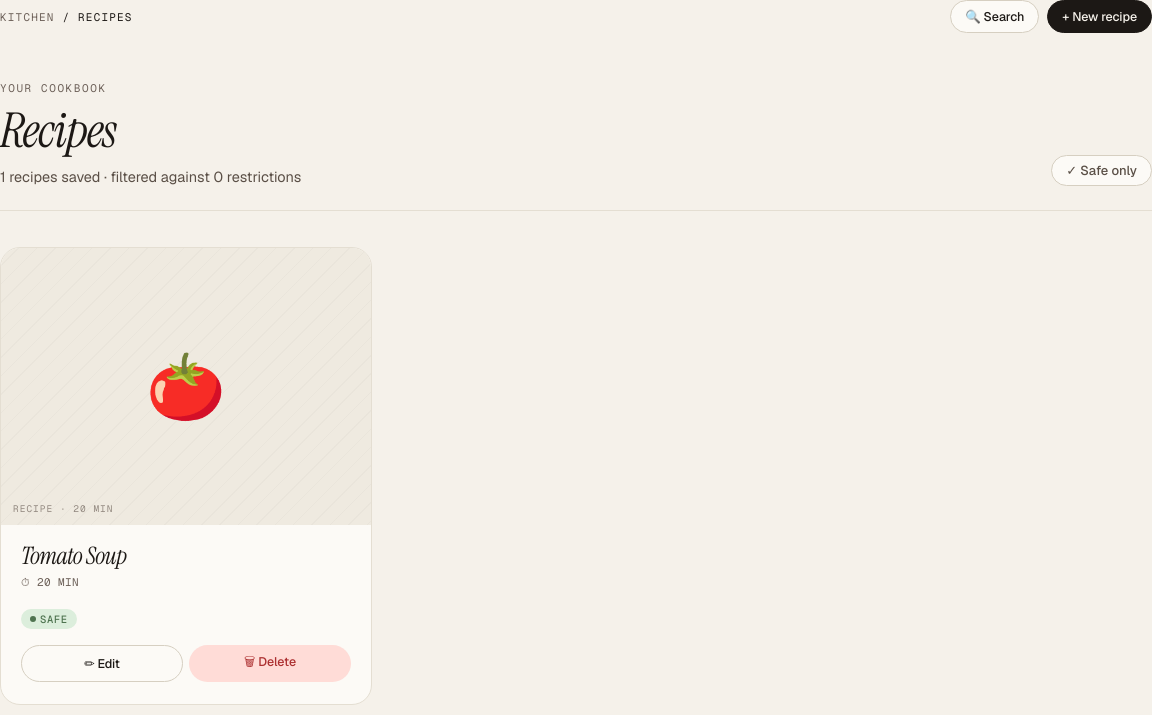
Test: RecipesScreen – delete from detail view confirmation › navigates back to the recipe grid after confirming delete from detail view
This screenshot has width=1152, height=715.
Click the text "Tomato Soup".
click(74, 556)  # box 21,540 -> 126,572
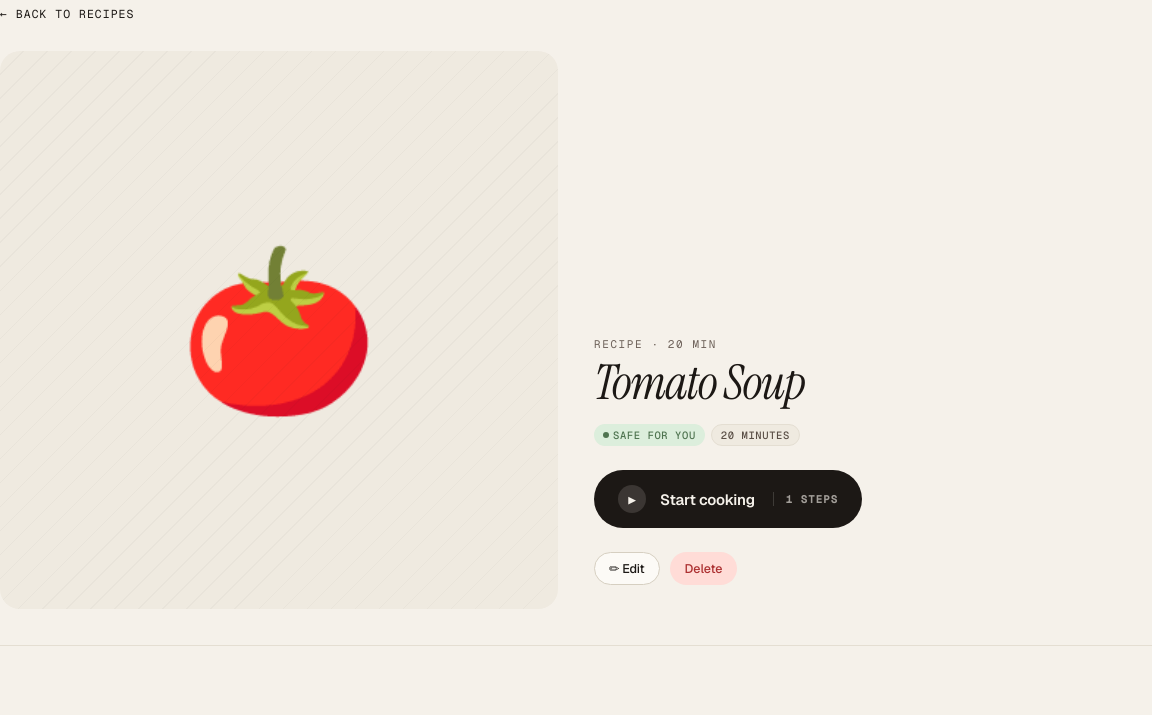
Click the button "Delete".
click(703, 568)  # box 670,552 -> 737,585
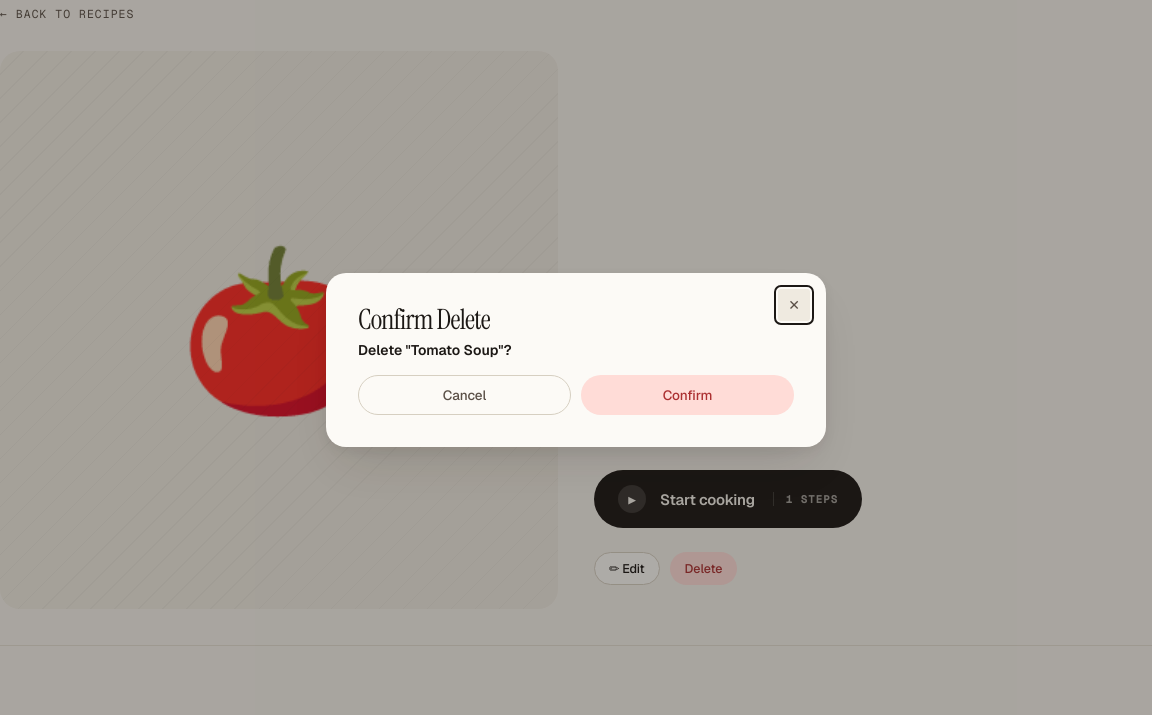
Click the button "Confirm".
click(688, 395)  # box 581,375 -> 794,415
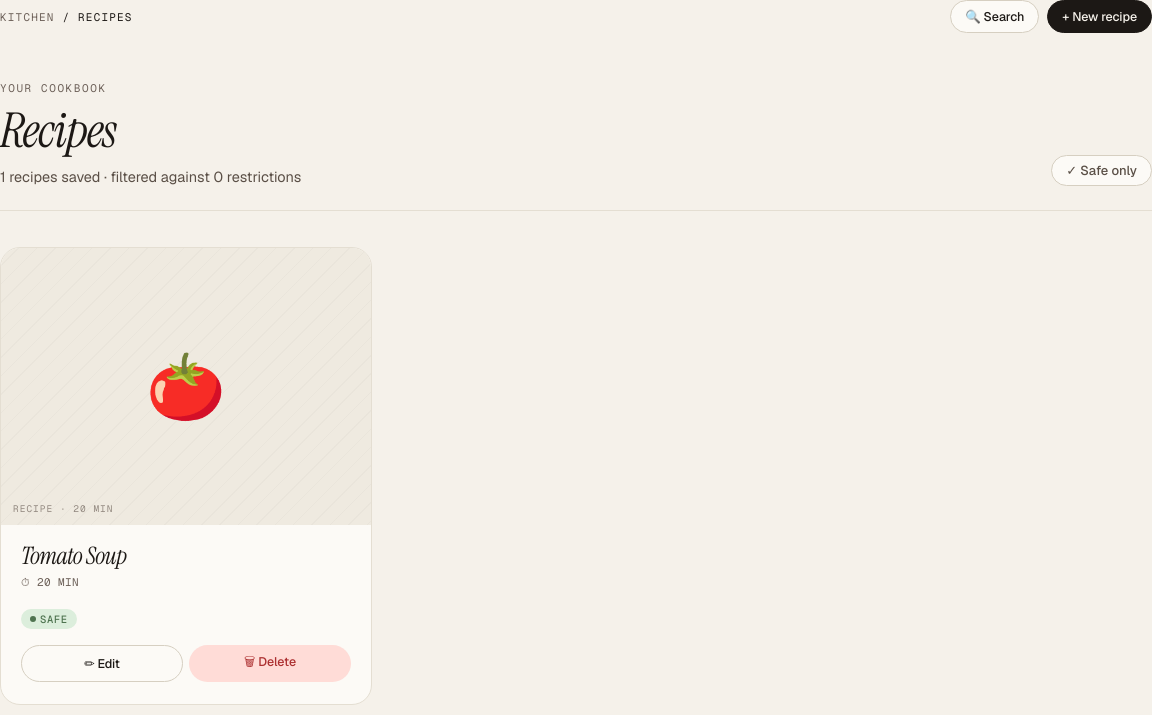
Check: the button "Back" is gone
